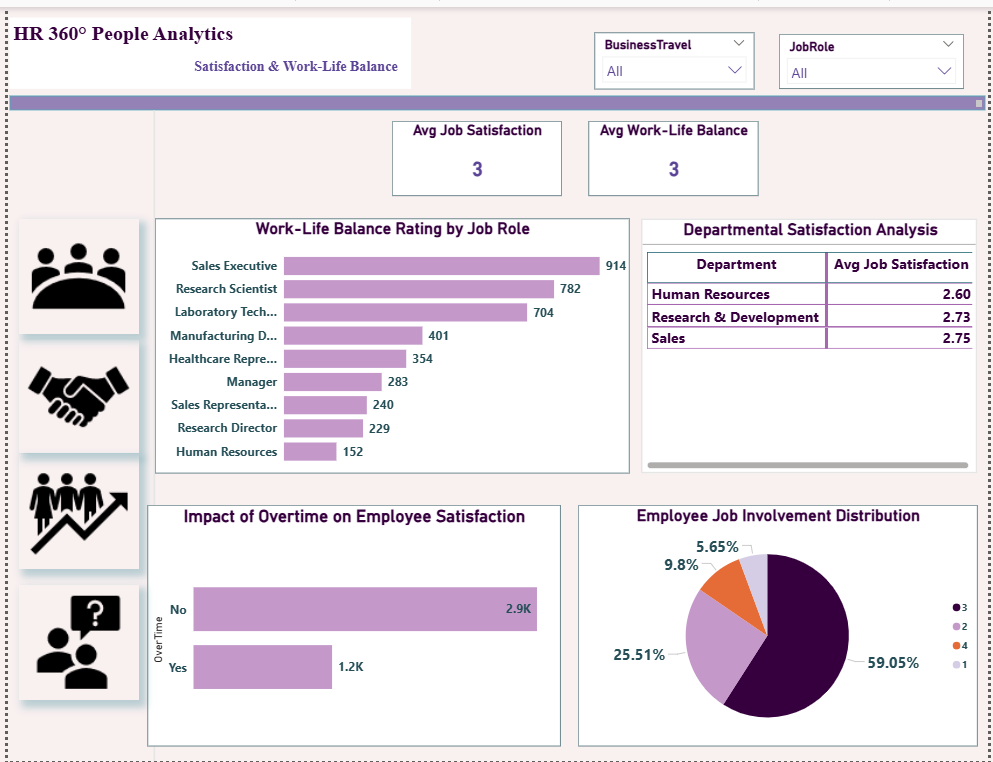

The page's visual inventory and layout, read from the dashboard file:
{"tool":"powerbi","page":{"name":"Satisfaction & Work-Life Balance","canvas":[1300,1000],"ordinal":1},"visuals":[{"type":"textbox","box":[2.2,13.3,532.4,95],"z":0},{"type":"slicer","fields":{"Values":["HR Analytics Data.BusinessTravel"]},"box":[777.6,33.1,212.1,75.1],"z":1000},{"type":"slicer","fields":{"Values":["HR Analytics Data.JobRole"]},"box":[1022.9,35.3,245.2,72.9],"z":2000},{"type":"card","title":"Avg Job Satisfaction","fields":{"Values":["Measure.Avg Job Satisfaction"]},"box":[508.4,150.2,225.3,99.4],"z":3000},{"type":"textbox","box":[2.2,117.1,1294.6,19.9],"z":4000},{"type":"card","title":"Avg Work-Life Balance","fields":{"Values":["Measure.Avg Work-Life Balance"]},"box":[770.6,150.2,225.3,99.4],"z":5000},{"type":"shape","box":[172.3,137,42,863.8],"z":6000},{"type":"image","box":[13.3,280.6,159.1,152.4],"z":7000},{"type":"image","box":[13.3,592.1,159.1,152.4],"z":8000},{"type":"clusteredBarChart","title":"Impact of Overtime on Employee Satisfaction","fields":{"Category":["HR Analytics Data.OverTime"],"Y":["Sum(HR Analytics Data.JobSatisfaction)"]},"box":[185.6,660.5,547.9,320.3],"z":9000},{"type":"image","box":[13.9,765.9,159.2,153.2],"z":10000},{"type":"pieChart","title":"Employee Job Involvement Distribution","fields":{"Category":["HR Analytics Data.JobInvolvement"],"Y":["Measure.Total Employees"]},"box":[755.5,660.5,530.2,320.3],"z":11000},{"type":"barChart","title":"Work-Life Balance Rating by Job Role","fields":{"Category":["HR Analytics Data.JobRole"],"Y":["Sum(HR Analytics Data.WorkLifeBalance)"]},"box":[194.4,280.6,629.6,338],"z":12000},{"type":"tableEx","title":"Departmental Satisfaction Analysis","fields":{"Values":["HR Analytics Data.Department","Measure.Avg Job Satisfaction"]},"box":[839.5,280.6,446.3,338],"z":13000},{"type":"image","box":[13.3,441.8,159.1,150.2],"z":14000}]}

Visuals, with their boxes in screenshot pixels (x1, y1, x2, y2), scaled from the page's 1300x1000 canvas onto the 993x762 screenshot:
textbox: 2/10/408/83
slicer - HR Analytics Data.BusinessTravel: 594/25/756/82
slicer - HR Analytics Data.JobRole: 781/27/969/82
"Avg Job Satisfaction" card: 388/114/560/190
textbox: 2/89/991/104
"Avg Work-Life Balance" card: 589/114/761/190
shape: 132/104/164/761
image: 10/214/132/330
image: 10/451/132/567
"Impact of Overtime on Employee Satisfaction" clusteredBarChart: 142/503/560/747
image: 11/584/132/700
"Employee Job Involvement Distribution" pieChart: 577/503/982/747
"Work-Life Balance Rating by Job Role" barChart: 148/214/629/471
"Departmental Satisfaction Analysis" tableEx: 641/214/982/471
image: 10/337/132/451
